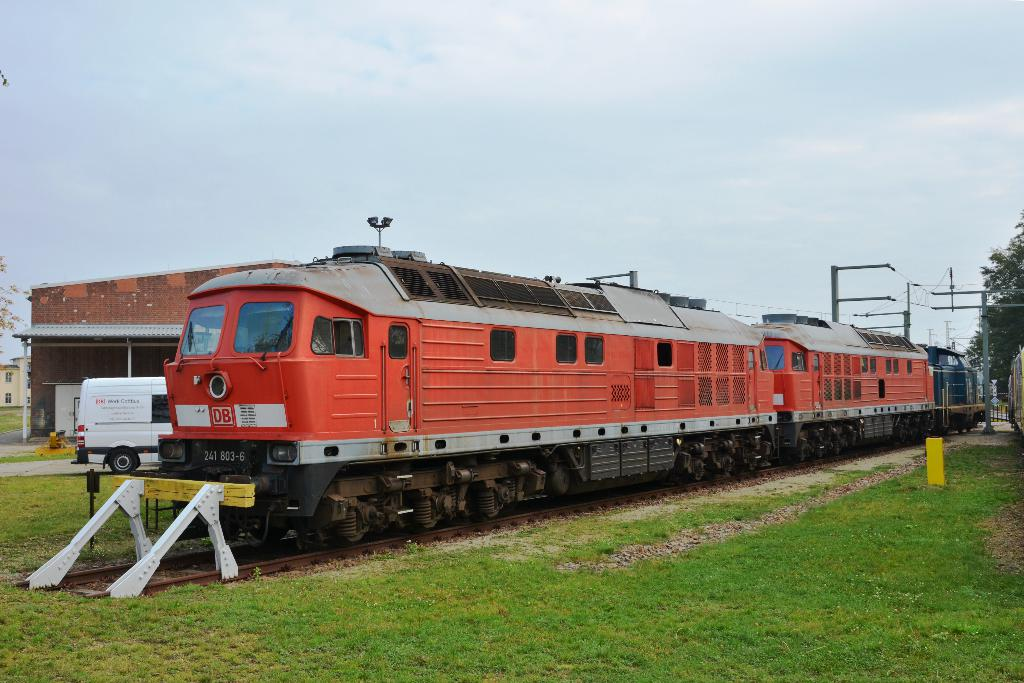train: (154, 251, 988, 551)
